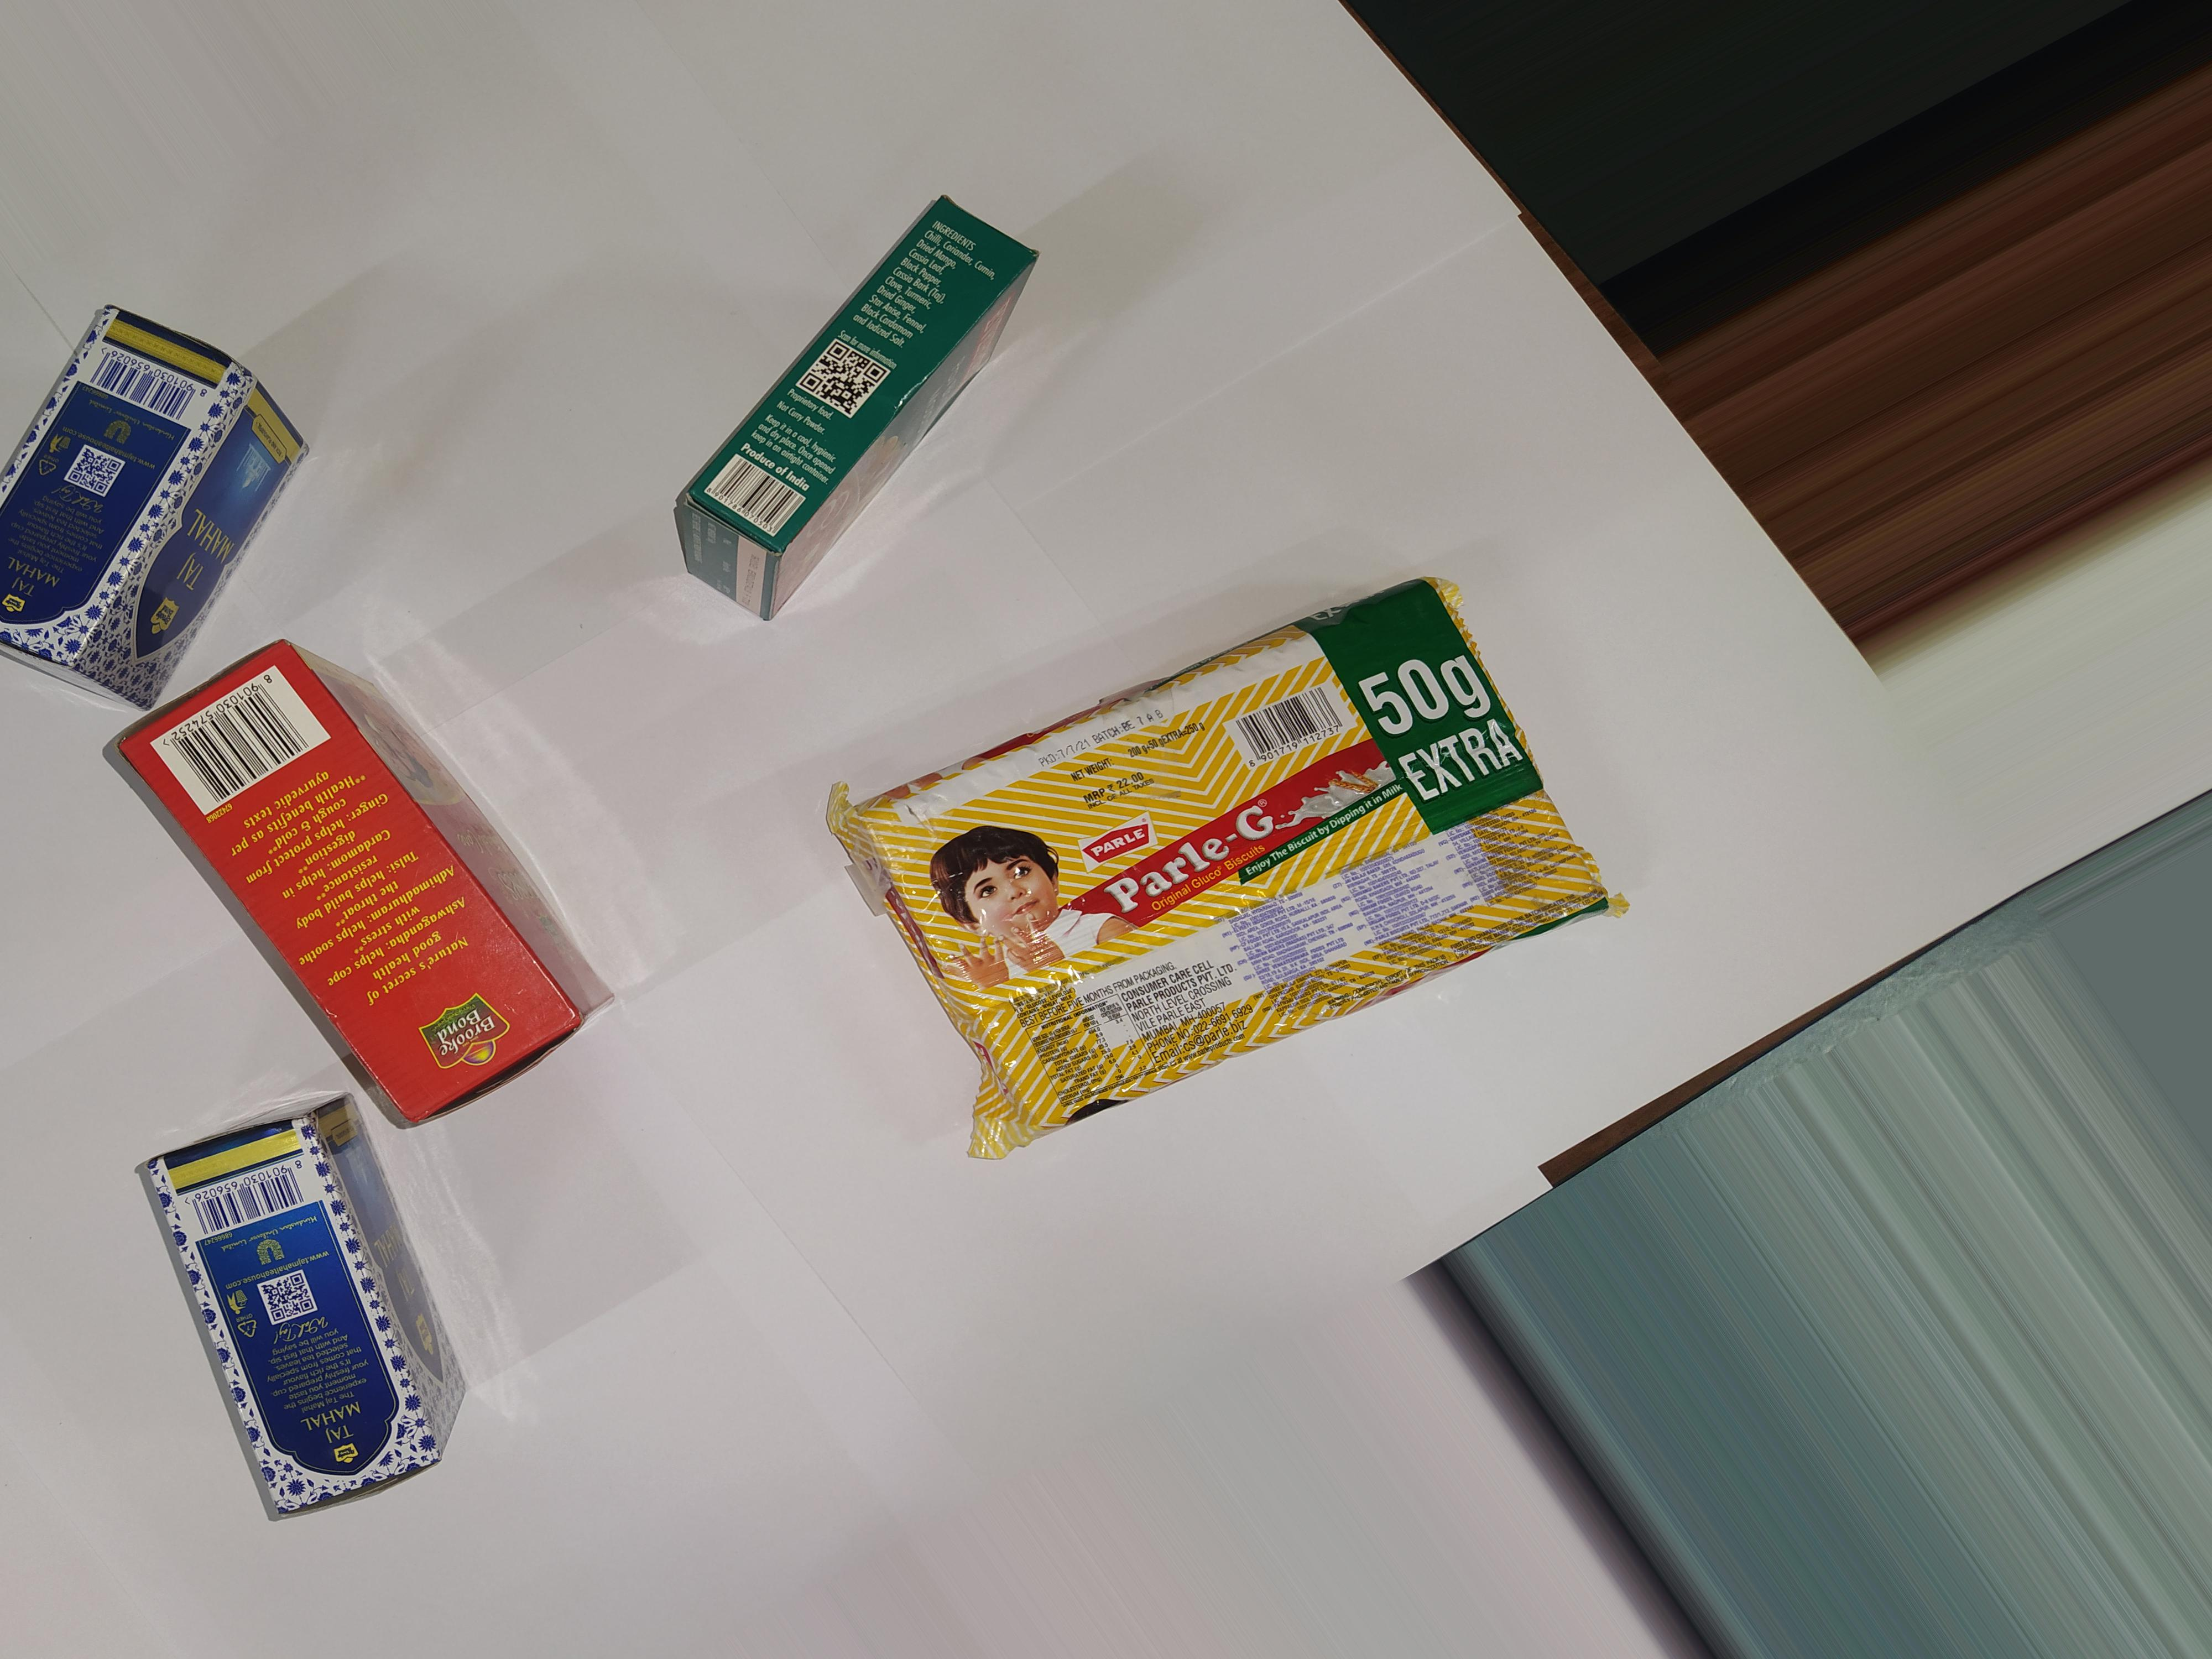Bar_code: (122, 676, 357, 831), (68, 326, 202, 444), (1223, 673, 1360, 777), (169, 1154, 326, 1232), (697, 451, 817, 551)
Item: (777, 563, 1655, 1187), (75, 638, 620, 1122), (94, 1082, 559, 1530), (658, 190, 1073, 669), (0, 300, 296, 728)
QR_code: (789, 331, 899, 422), (240, 1260, 343, 1328), (63, 434, 134, 511)
